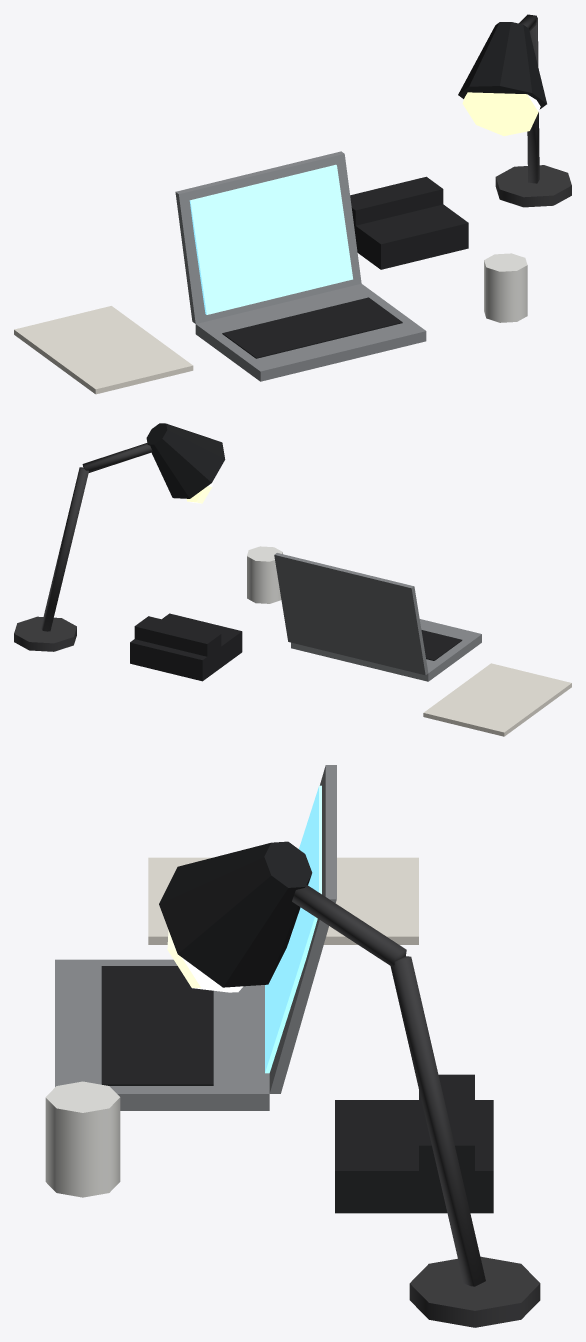
File: desk_laptop.glb
3 renders of one model, top to bottom at view 1: azimuth 30°, elevation 25°; view 2: azimuth 150°, elevation 25°; view 3: azimuth 270°, elevation 25°, orthographic. The views are drawn at different scales.
Parts seen in each view (by area): view 1: desk_laptop; view 2: desk_laptop; view 3: desk_laptop.
Boxes of the visible parts, left/top/right/bottom form: desk_laptop: left=14, top=14, right=571, bottom=394; desk_laptop: left=14, top=423, right=571, bottom=736; desk_laptop: left=45, top=765, right=540, bottom=1327.
Size of the model in its own units: 1.17 by 0.4603 by 0.53.
1 material, 1 textured.
